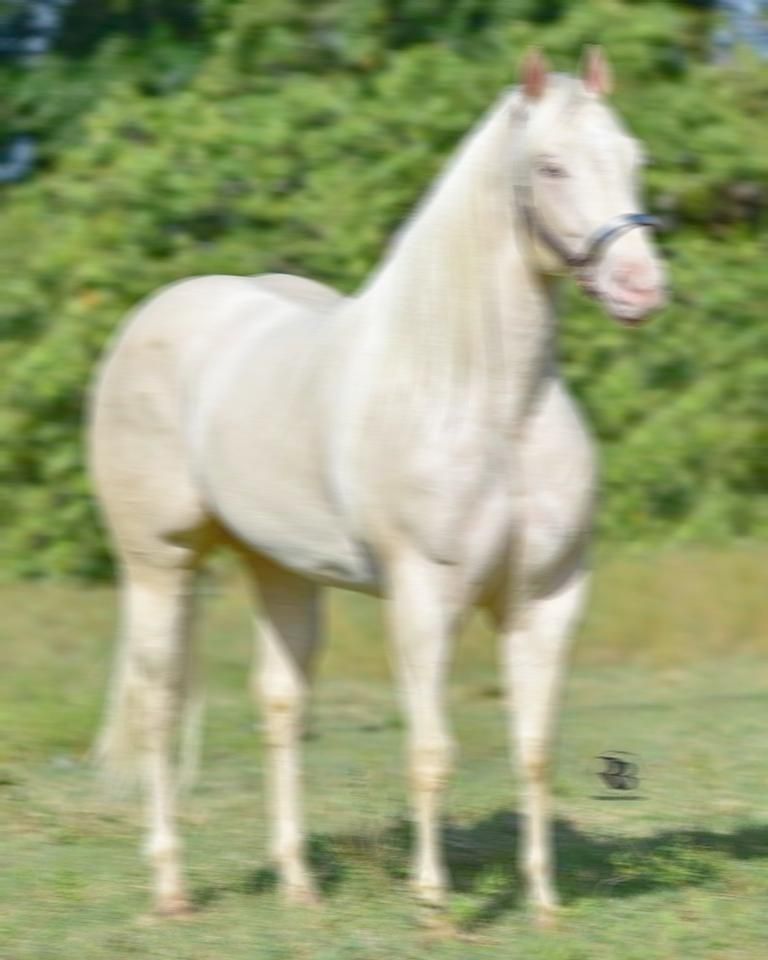horse: (80, 41, 670, 940)
